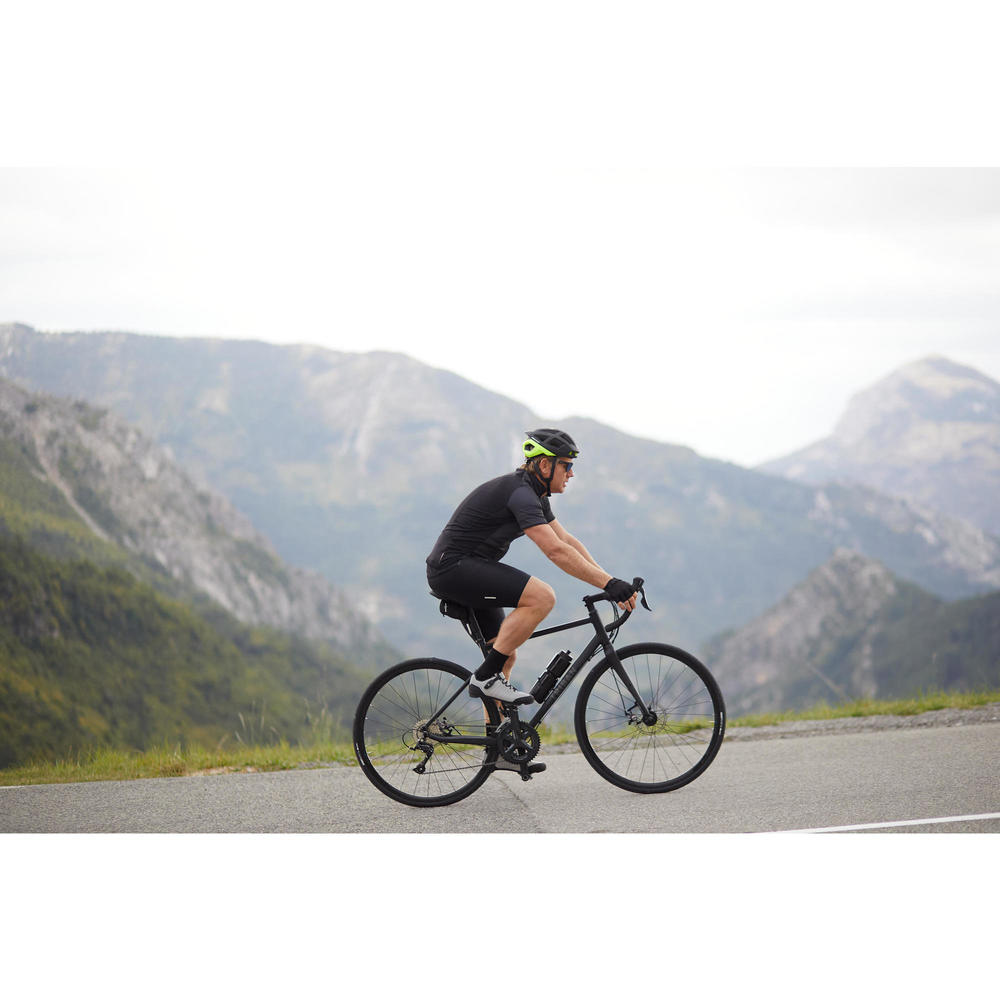RoadBike: (343, 574, 722, 827)
